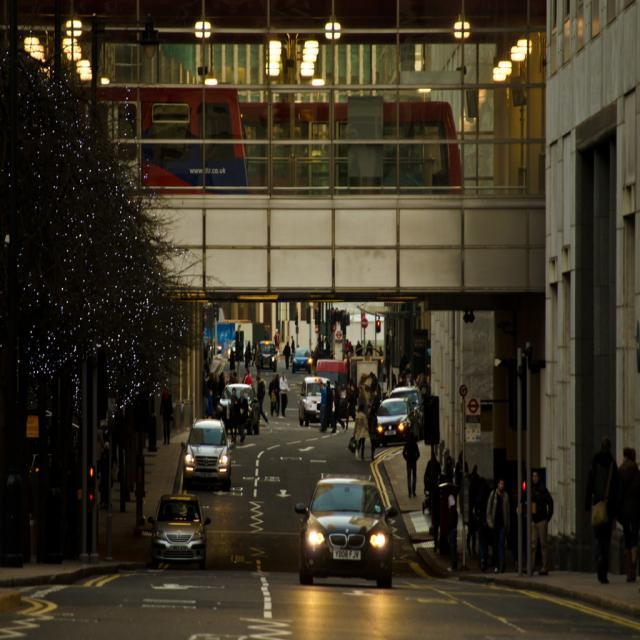traffic light: (85, 463, 97, 506)
